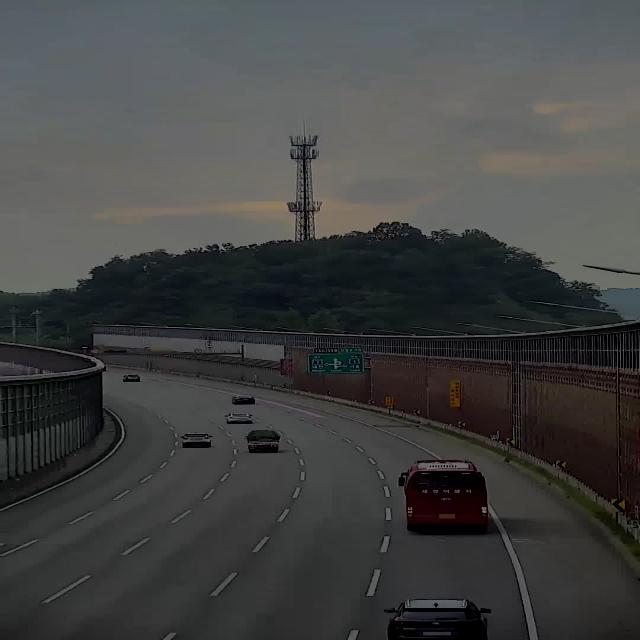Bus: (400, 462, 488, 532)
Car: (382, 600, 494, 640), (216, 391, 262, 410), (116, 365, 145, 389), (180, 432, 212, 448), (224, 414, 252, 425)
Truck: (245, 430, 281, 453)
